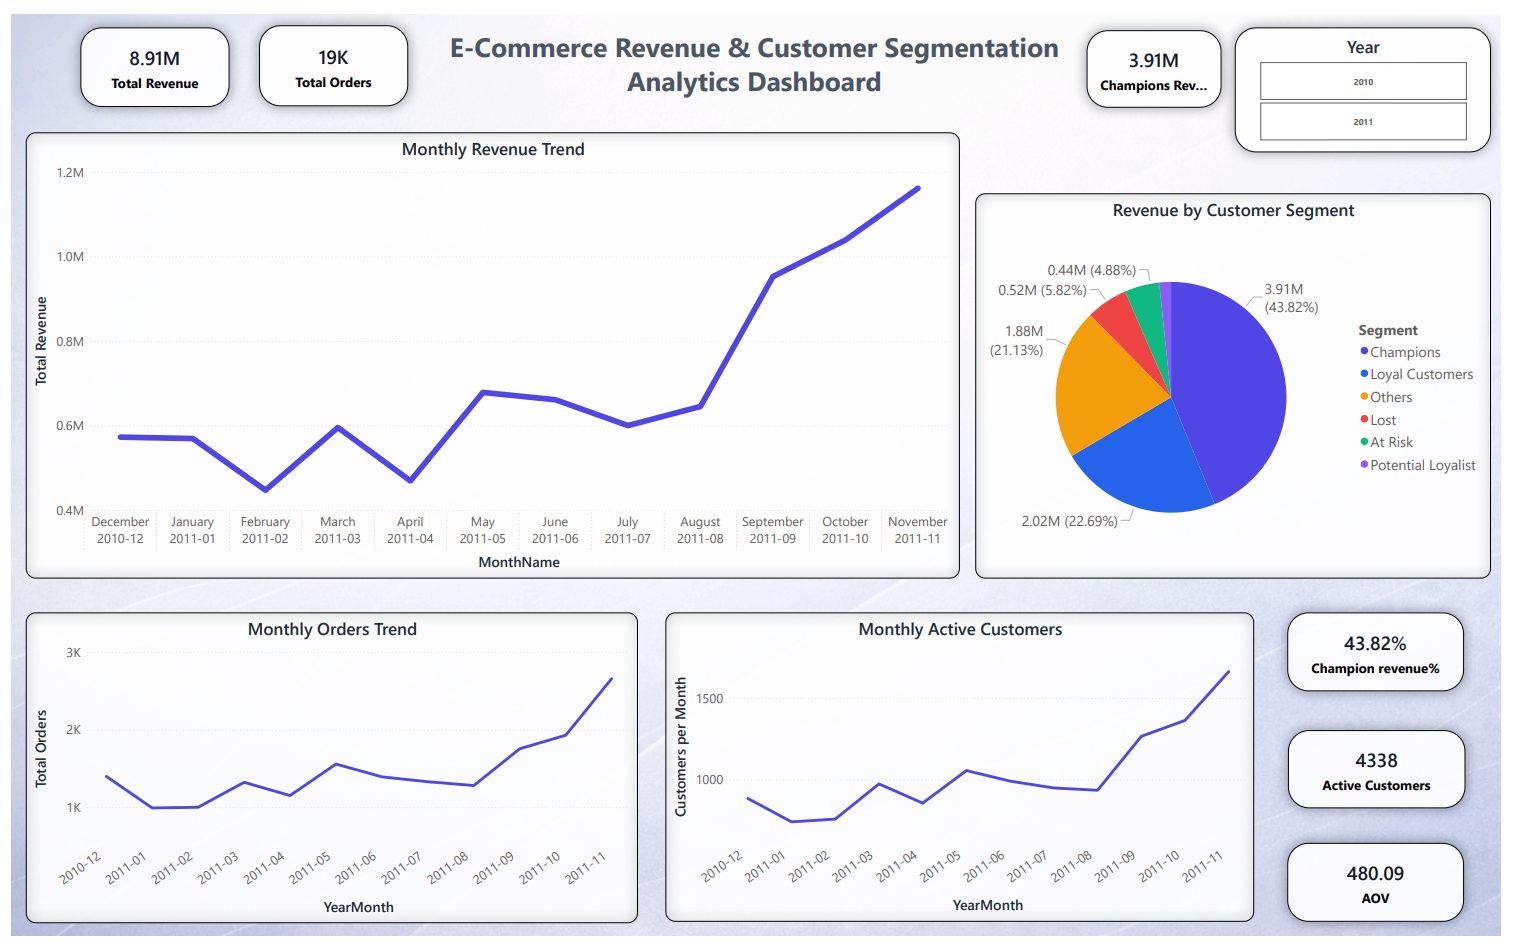

The dashboard page shown, as its layout file describes it:
{"tool":"powerbi","page":{"name":"Page 1","canvas":[2100,1300],"ordinal":0},"visuals":[{"type":"card","fields":{"Values":["fact_invoices.Total Revenue"]},"box":[97.6,18.8,210.2,112.6],"z":0},{"type":"lineChart","title":"Monthly Revenue Trend","fields":{"Category":["dim_date.YearMonth","dim_date.MonthName"],"Y":["fact_invoices.Total Revenue"]},"box":[20.6,167,1317.3,628.6],"z":1000},{"type":"pieChart","title":"Revenue by Customer Segment","fields":{"Category":["dim_customers.Segment"],"Y":["fact_invoices.Total Revenue"]},"box":[1360.4,253.3,726.2,542.3],"z":2000},{"type":"card","fields":{"Values":["fact_invoices.Champion revenue%"]},"box":[1799.5,844.4,249.6,110.7],"z":3000},{"type":"slicer","title":"Year","fields":{"Values":["dim_date.Year"]},"box":[1708,18,360,174],"z":4000},{"type":"textbox","box":[641.7,18.8,818.1,97.6],"z":5000},{"type":"lineChart","title":"Monthly Orders Trend","fields":{"Category":["dim_date.YearMonth"],"Y":["fact_invoices.Total Orders"]},"box":[20.6,844.4,863.2,437.2],"z":6000},{"type":"lineChart","title":"Monthly Active Customers","fields":{"Y":["dim_customers.Customers per Month"],"Category":["dim_date.YearMonth"]},"box":[923.2,844.4,829.4,435.3],"z":7000},{"type":"card","fields":{"Values":["fact_invoices.Active Customers"]},"box":[1801.4,1009.5,249.6,110.7],"z":8000},{"type":"card","fields":{"Values":["fact_invoices.AOV"]},"box":[1799.5,1169,249.6,110.7],"z":9000},{"type":"card","fields":{"Values":["fact_invoices.Champions Revenue"]},"box":[1490,20,190,108],"z":10000},{"type":"card","fields":{"Values":["fact_invoices.Total Orders"]},"box":[350,16,210,114],"z":11000}]}

Visuals, with their boxes in screenshot pixels (x1, y1, x2, y2), scaled from the page's 2100x1300 canvas onto the 1513x952 screenshot:
card - fact_invoices.Total Revenue: BBox(70, 14, 222, 96)
"Monthly Revenue Trend" lineChart: BBox(15, 122, 964, 583)
"Revenue by Customer Segment" pieChart: BBox(980, 185, 1503, 583)
card - fact_invoices.Champion revenue%: BBox(1296, 618, 1476, 699)
"Year" slicer: BBox(1231, 13, 1490, 141)
textbox: BBox(462, 14, 1052, 85)
"Monthly Orders Trend" lineChart: BBox(15, 618, 637, 939)
"Monthly Active Customers" lineChart: BBox(665, 618, 1263, 937)
card - fact_invoices.Active Customers: BBox(1298, 739, 1478, 820)
card - fact_invoices.AOV: BBox(1296, 856, 1476, 937)
card - fact_invoices.Champions Revenue: BBox(1074, 15, 1210, 94)
card - fact_invoices.Total Orders: BBox(252, 12, 403, 95)
